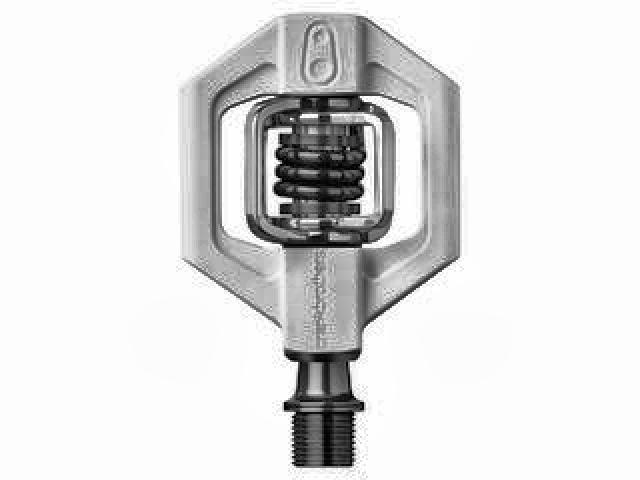pedal: (178, 11, 465, 471)
